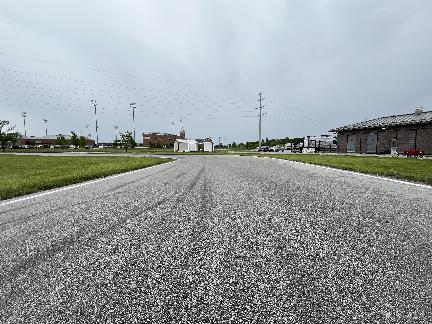Grass: (158, 152, 431, 183), (0, 155, 173, 200), (259, 154, 431, 183)
Lane: (0, 156, 431, 323)
